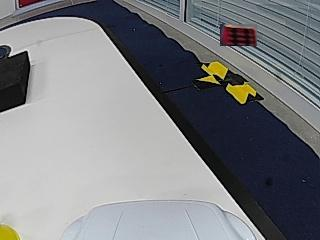block: (0, 55, 30, 112)
